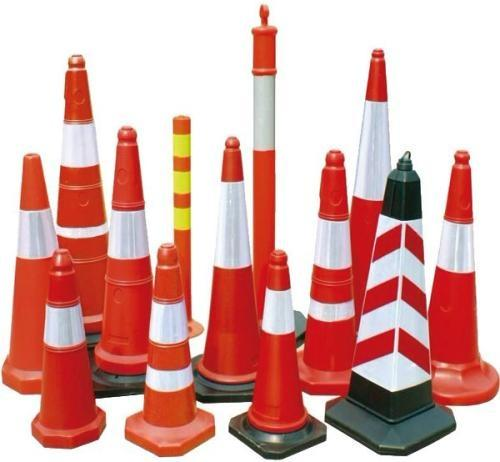cone_barrel: (345, 154, 443, 444), (423, 149, 494, 410), (197, 142, 261, 400), (95, 131, 157, 388), (299, 150, 362, 395), (51, 57, 111, 309), (133, 234, 202, 451), (242, 244, 313, 451), (31, 245, 102, 450), (2, 160, 61, 396), (346, 59, 396, 261), (246, 17, 282, 286), (165, 114, 194, 295)
